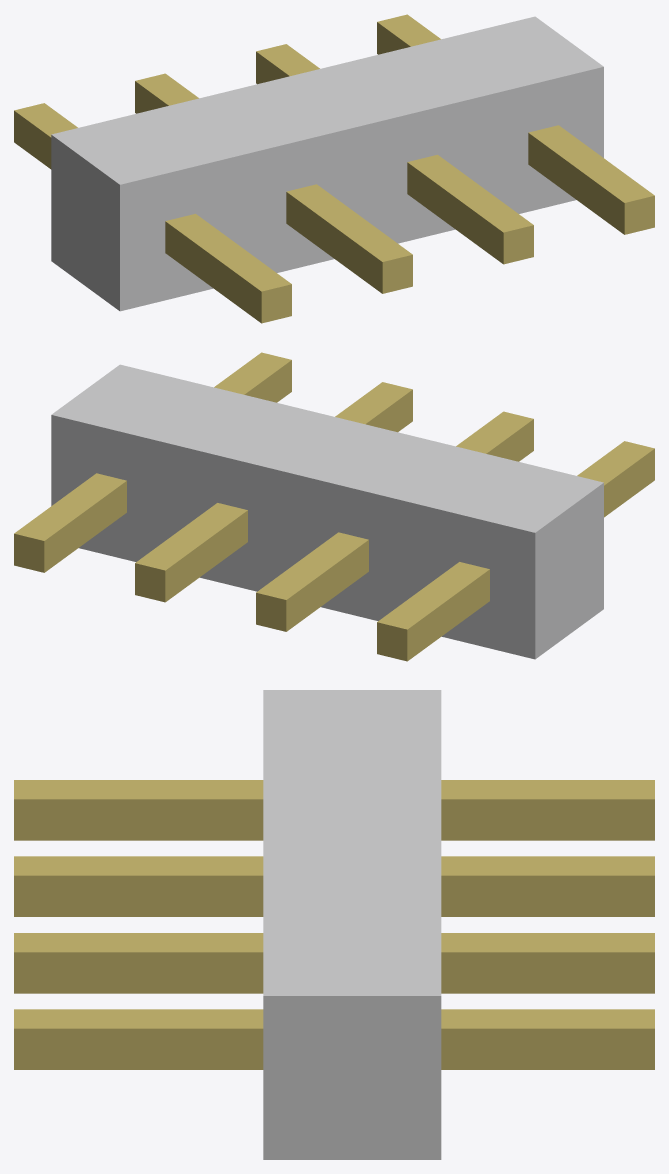
The model's file is pin_header_254_4pin.glb.
3 renders of one model, top to bottom at view 1: azimuth 30°, elevation 25°; view 2: azimuth 150°, elevation 25°; view 3: azimuth 270°, elevation 25°, orthographic. The views are drawn at different scales.
Parts seen in each view (by area): view 1: world; view 2: world; view 3: world.
Part boxes in pixels (<box>): world: <box>14,14,654,323</box>; world: <box>14,352,654,661</box>; world: <box>14,690,654,1159</box>.
Bounding box in the file's own units: 10.16 × 2.54 × 9.
